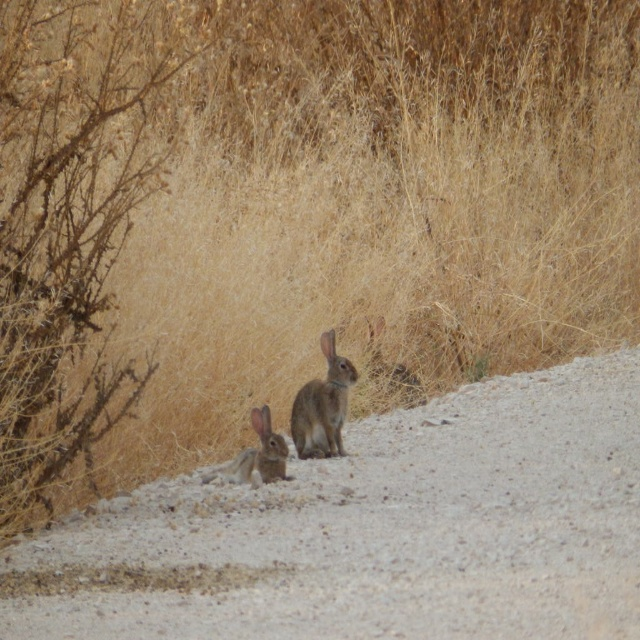Rabbit: (290, 329, 360, 461), (202, 404, 292, 486)
